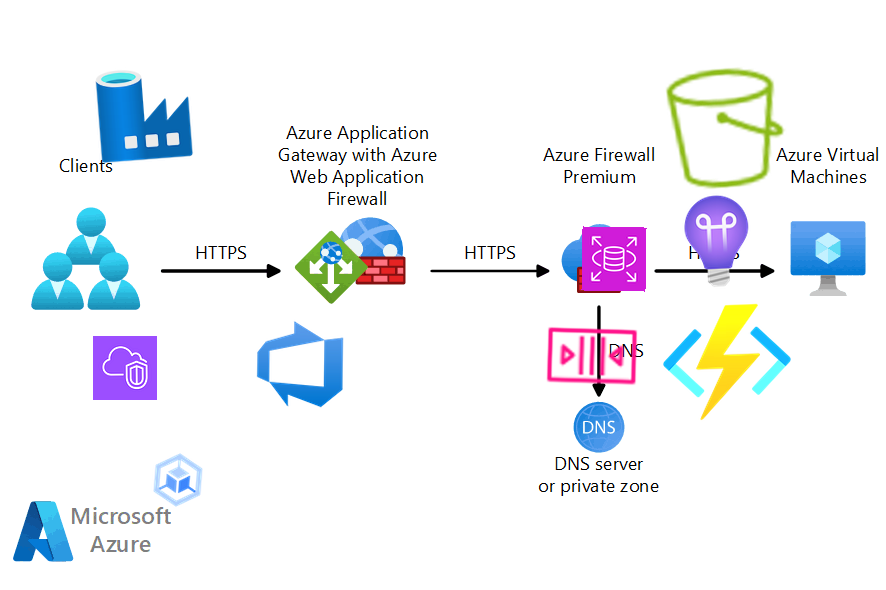aws_amazon_rds: (581, 226, 647, 292)
aws_amazon_virtual_private_cloud: (92, 335, 158, 401)
aws_simple_queue_service_queue: (542, 305, 642, 405)
aws_simple_storage_service_bucket: (657, 59, 795, 197)
azure_application_insights: (666, 190, 768, 292)
azure_data_factories: (92, 62, 196, 166)
azure_devops: (251, 315, 349, 413)
azure_function_apps: (660, 295, 794, 429)
gcp_google_kubernetes_engine: (143, 445, 213, 515)
